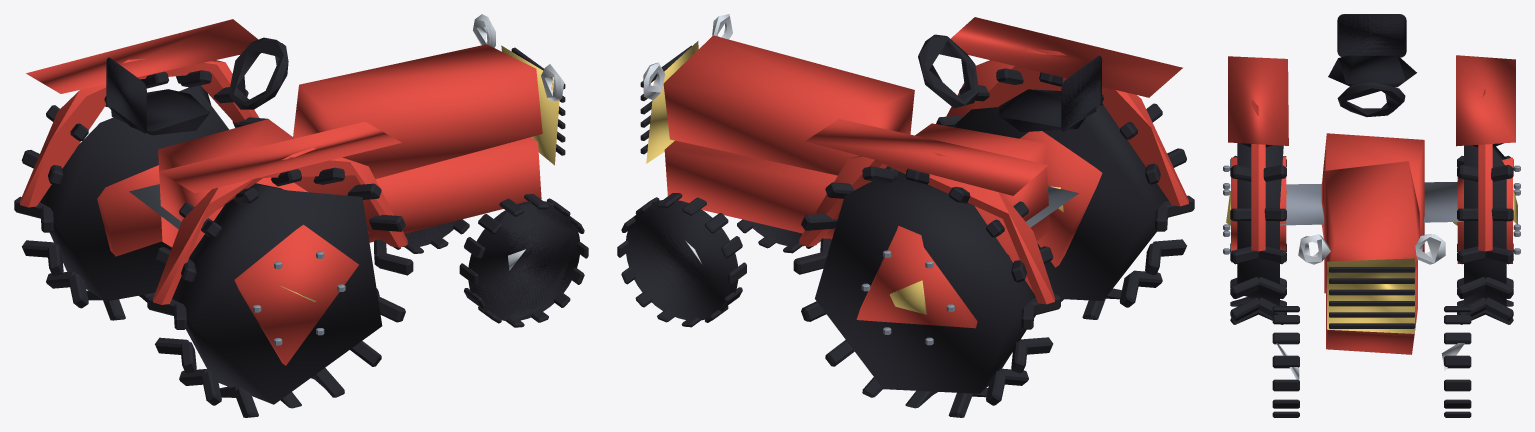
File: tractor.glb
3 views of the same model, side by side, from view 1: azimuth 30°, elevation 25°; view 2: azimuth 150°, elevation 25°; view 3: azimuth 270°, elevation 25° (orthographic). The views are drawn at different scales.
Parts seen in each view (by area): view 1: tractor; view 2: tractor; view 3: tractor.
Part boxes in pixels (<box>): tractor: <box>14,14,588,417</box>; tractor: <box>617,14,1194,417</box>; tractor: <box>1223,14,1520,417</box>.
Size of the model in its own units: 3.23 by 2.03 by 2.15.
1 material, 1 textured.
